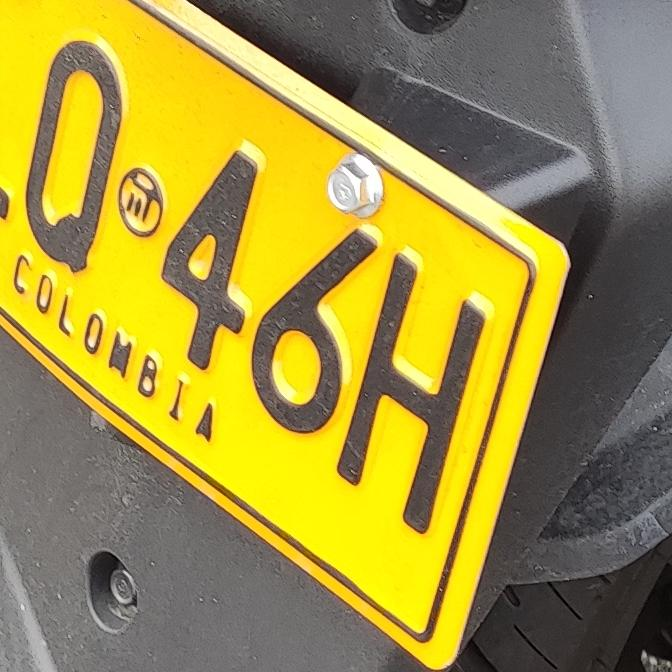plates: (0, 0, 564, 672)
